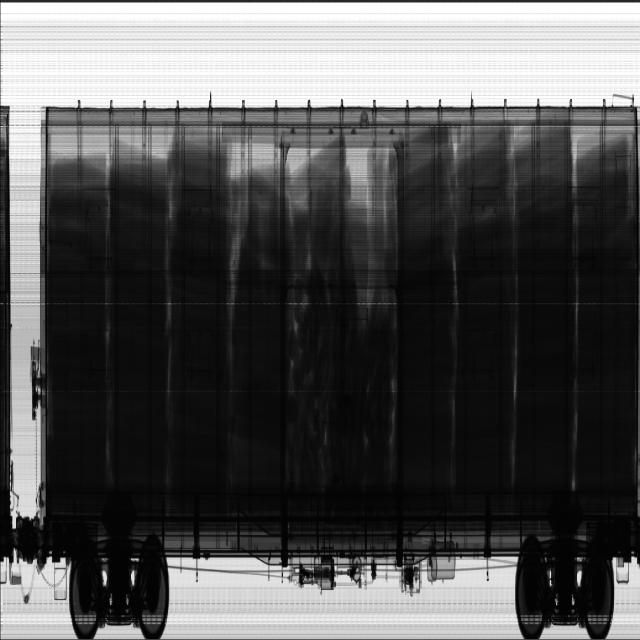fabrics: (185, 263, 256, 507), (29, 152, 71, 512)
